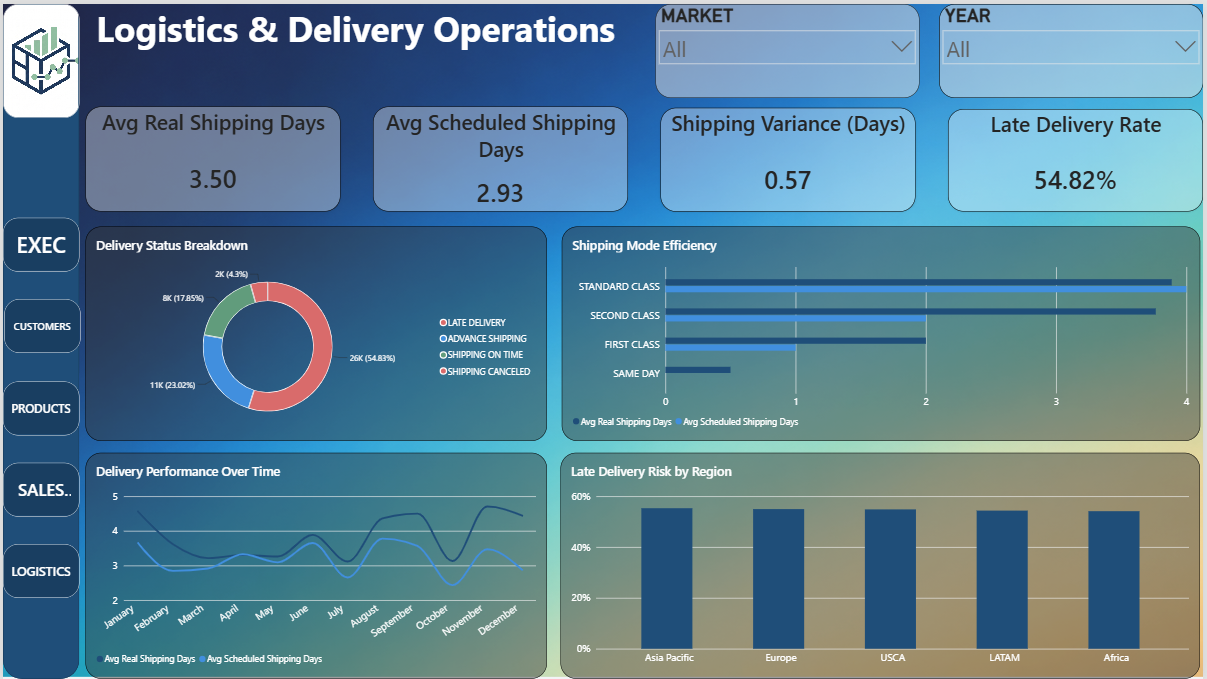

The page's visual inventory and layout, read from the dashboard file:
{"tool":"powerbi","page":{"name":"Supply Chain & Logistics dashboard","canvas":[1920,1080],"ordinal":4},"visuals":[{"type":"shape","box":[0,0,122,1080],"z":0},{"type":"textbox","box":[132,0,864,76],"z":1000},{"type":"slicer","fields":{"Values":["gold dim_date.year"]},"box":[1498,0,422,150],"z":2000},{"type":"slicer","fields":{"Values":["gold fact_orders.market"]},"box":[1044,0,422,150],"z":3000},{"type":"donutChart","title":"Delivery Status Breakdown","fields":{"Category":["gold fact_orders.delivery_status"],"Y":["KEY_MEASURES.TOTAL ORDERS"]},"box":[131.7,356.7,738.3,343.3],"z":4000},{"type":"cardVisual","title":"Avg Real Shipping Days","fields":{"Data":["KEY_MEASURES.Avg Real Shipping Days"]},"box":[132,164,408,168],"z":9000},{"type":"cardVisual","title":"Avg Scheduled Shipping Days","fields":{"Data":["KEY_MEASURES.Avg Scheduled Shipping Days"]},"box":[592,164,408,168],"z":10000},{"type":"cardVisual","title":"Shipping Variance (Days)","fields":{"Data":["KEY_MEASURES.Shipping Variance"]},"box":[1052,166,408,166],"z":11000},{"type":"cardVisual","title":"Late Delivery Rate","fields":{"Data":["KEY_MEASURES.Late Delivery Rate"]},"box":[1512,168,408,164],"z":12000},{"type":"lineChart","title":"Delivery Performance Over Time","fields":{"Category":["gold dim_date.month_name"],"Y":["KEY_MEASURES.Avg Real Shipping Days","KEY_MEASURES.Avg Scheduled Shipping Days"]},"box":[131.7,718.3,738.3,361.7],"z":13000},{"type":"clusteredBarChart","title":"Shipping Mode Efficiency","fields":{"Category":["gold fact_orders.shipping_mode"],"Y":["KEY_MEASURES.Avg Real Shipping Days","KEY_MEASURES.Avg Scheduled Shipping Days"]},"box":[893.3,356.7,1021.7,343.3],"z":14000},{"type":"clusteredColumnChart","title":"Late Delivery Risk by Region","fields":{"Category":["gold fact_orders.market"],"Y":["KEY_MEASURES.Late Delivery Rate"]},"box":[892.9,718.6,1022.9,361.4],"z":14001},{"type":"image","box":[0,0,122,182],"z":14002},{"type":"actionButton","title":"EXEC","box":[0,342,122,86],"z":14003},{"type":"actionButton","box":[2,472.5,122,86],"z":14004},{"type":"actionButton","box":[0,603,122,86],"z":14005},{"type":"actionButton","box":[0,733.5,122,86],"z":14006},{"type":"actionButton","box":[0,864,122,86],"z":14007}]}

Visuals, with their boxes in screenshot pixels (x1, y1, x2, y2), scaled from the page's 1920x1080 canvas onto the 1207x679 screenshot:
shape: [left=0, top=0, right=77, bottom=678]
textbox: [left=83, top=0, right=626, bottom=48]
slicer - gold dim_date.year: [left=942, top=0, right=1206, bottom=94]
slicer - gold fact_orders.market: [left=656, top=0, right=922, bottom=94]
"Delivery Status Breakdown" donutChart: [left=83, top=224, right=547, bottom=440]
"Avg Real Shipping Days" cardVisual: [left=83, top=103, right=339, bottom=209]
"Avg Scheduled Shipping Days" cardVisual: [left=372, top=103, right=629, bottom=209]
"Shipping Variance (Days)" cardVisual: [left=661, top=104, right=918, bottom=209]
"Late Delivery Rate" cardVisual: [left=951, top=106, right=1206, bottom=209]
"Delivery Performance Over Time" lineChart: [left=83, top=452, right=547, bottom=678]
"Shipping Mode Efficiency" clusteredBarChart: [left=562, top=224, right=1204, bottom=440]
"Late Delivery Risk by Region" clusteredColumnChart: [left=561, top=452, right=1204, bottom=678]
image: [left=0, top=0, right=77, bottom=114]
"EXEC" actionButton: [left=0, top=215, right=77, bottom=269]
actionButton: [left=1, top=297, right=78, bottom=351]
actionButton: [left=0, top=379, right=77, bottom=433]
actionButton: [left=0, top=461, right=77, bottom=515]
actionButton: [left=0, top=543, right=77, bottom=597]
